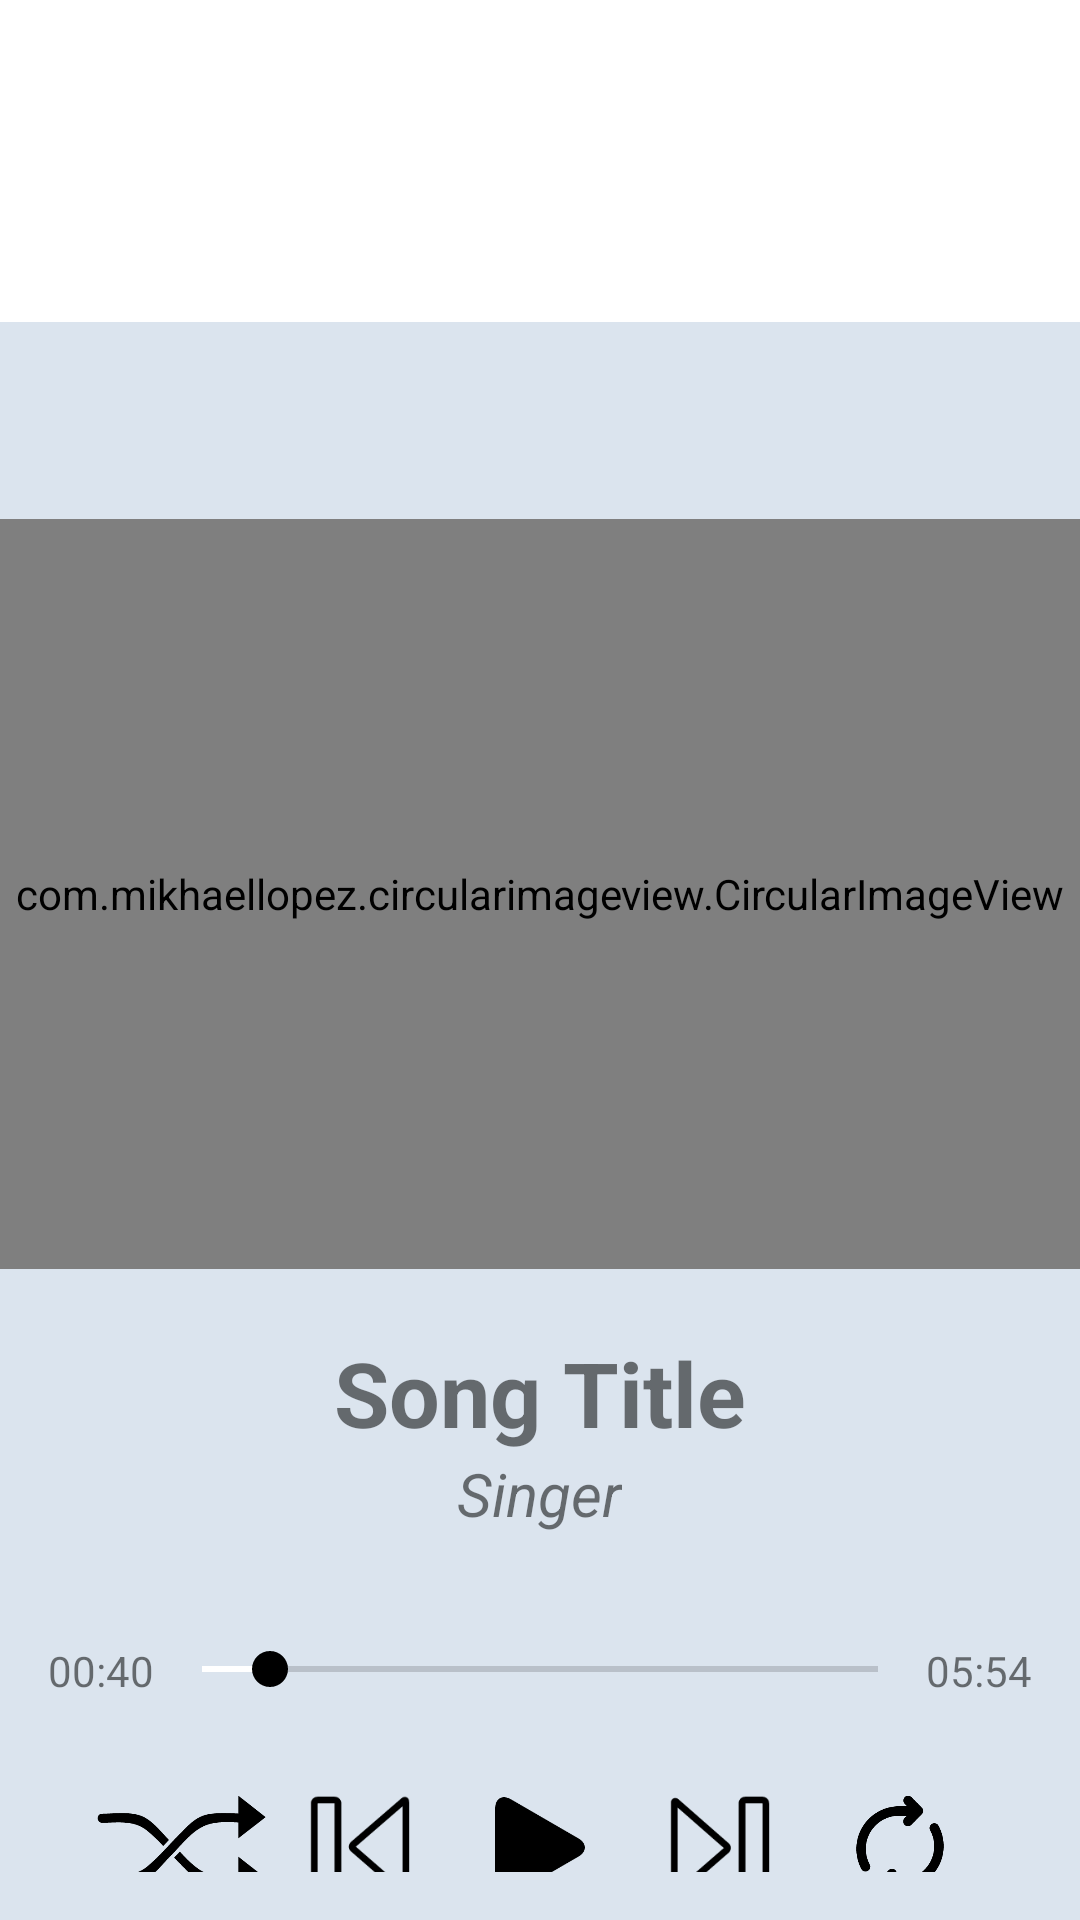

Icons on this 1080 × 1920 Android screen, each with the point to tap as (x,y):
next: (720,1834)
play: (540,1834)
previous: (360,1834)
reload: (900,1834)
shuffle: (181,1834)
